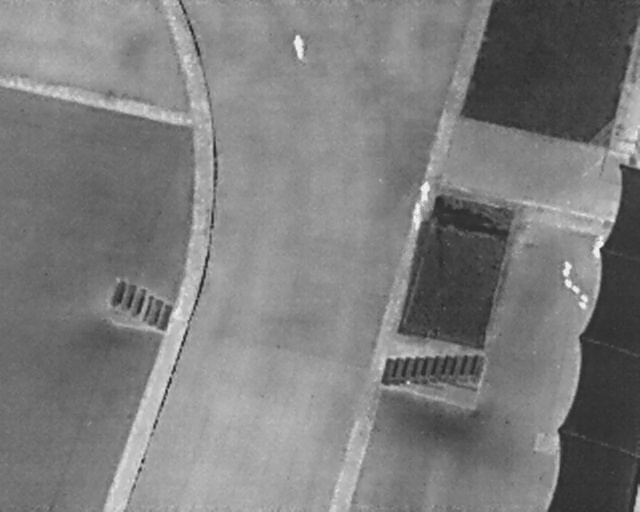Person: (290, 31, 308, 62), (590, 233, 606, 260), (412, 200, 424, 231), (420, 179, 432, 202)
